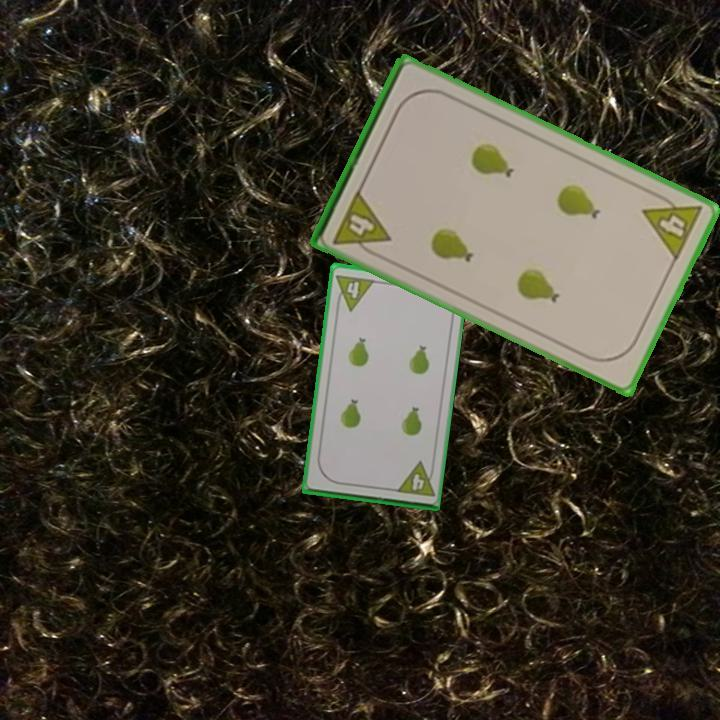4p: (639, 187, 706, 264), (329, 186, 394, 261), (332, 270, 377, 314), (392, 458, 437, 500)
